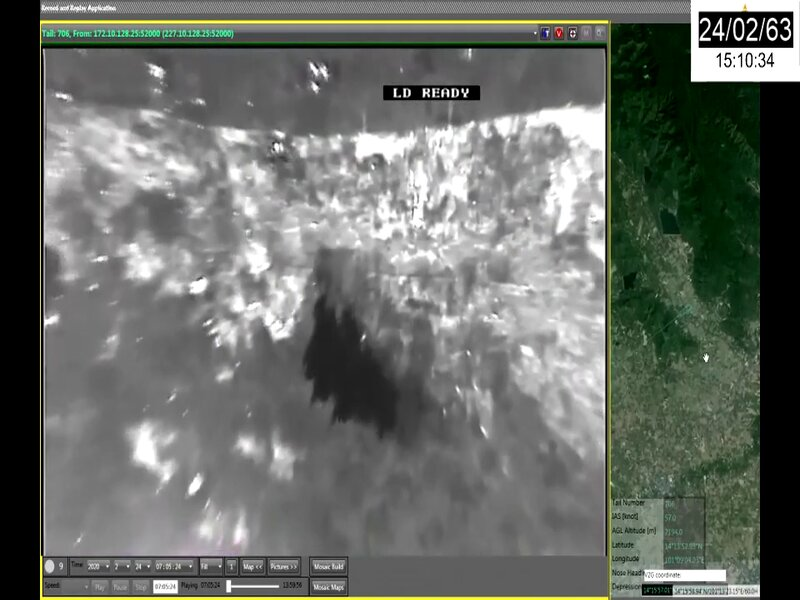Fire: (354, 101, 605, 268)
